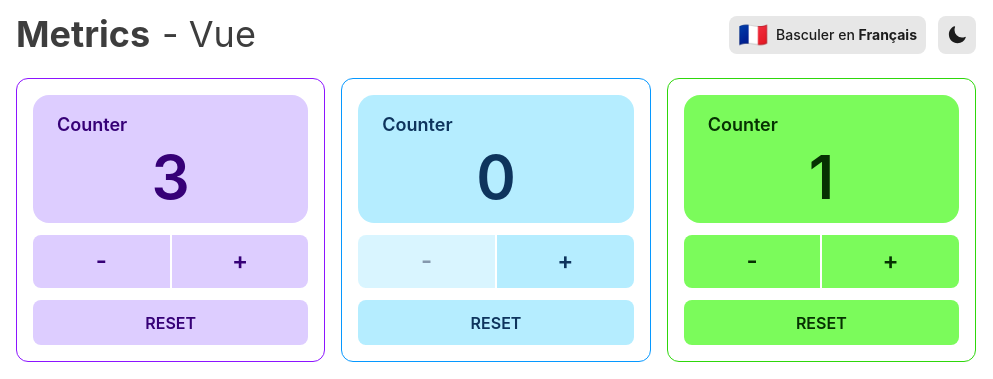
Test case: Testing Vue3: › Metrics display › metrics block 1 › should reset value to 0 when clicking on reset
Click the button with test id "counter-increase-button". click: (241, 262)
box: [172,235,309,288]
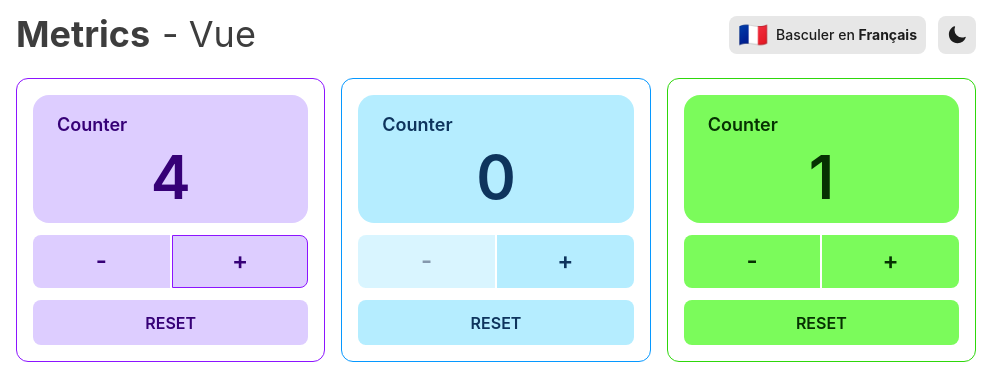
Click the button with test id "control-pane-button". click: (171, 323)
box: [33,300,308,345]
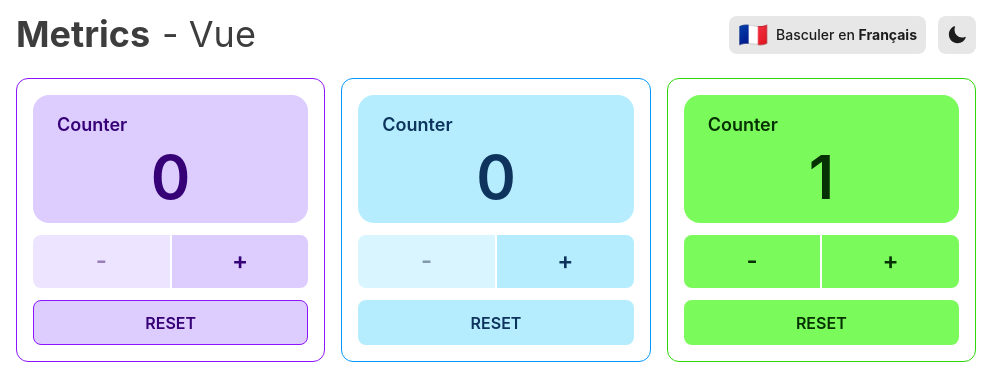
expect the 1st text with test id "display-value" reads "0": met, box [151,147,191,207]
